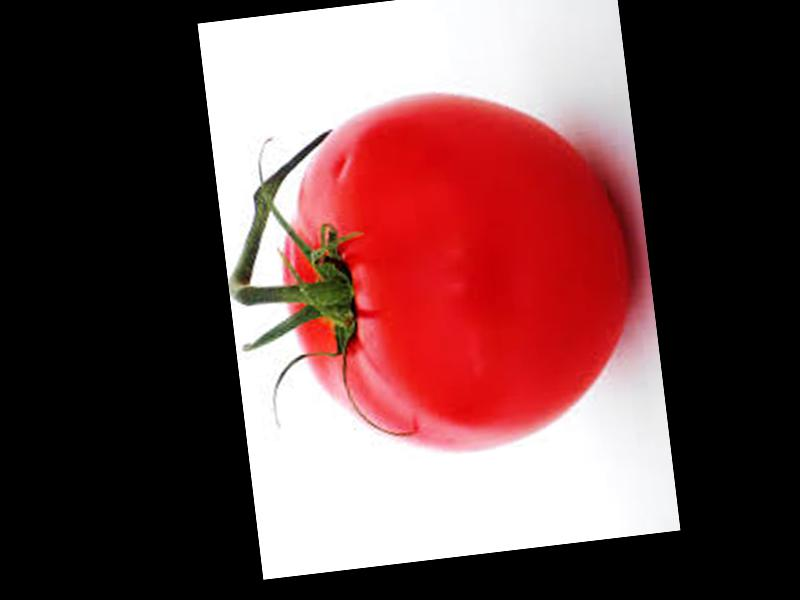Tomato: (266, 75, 651, 474)
